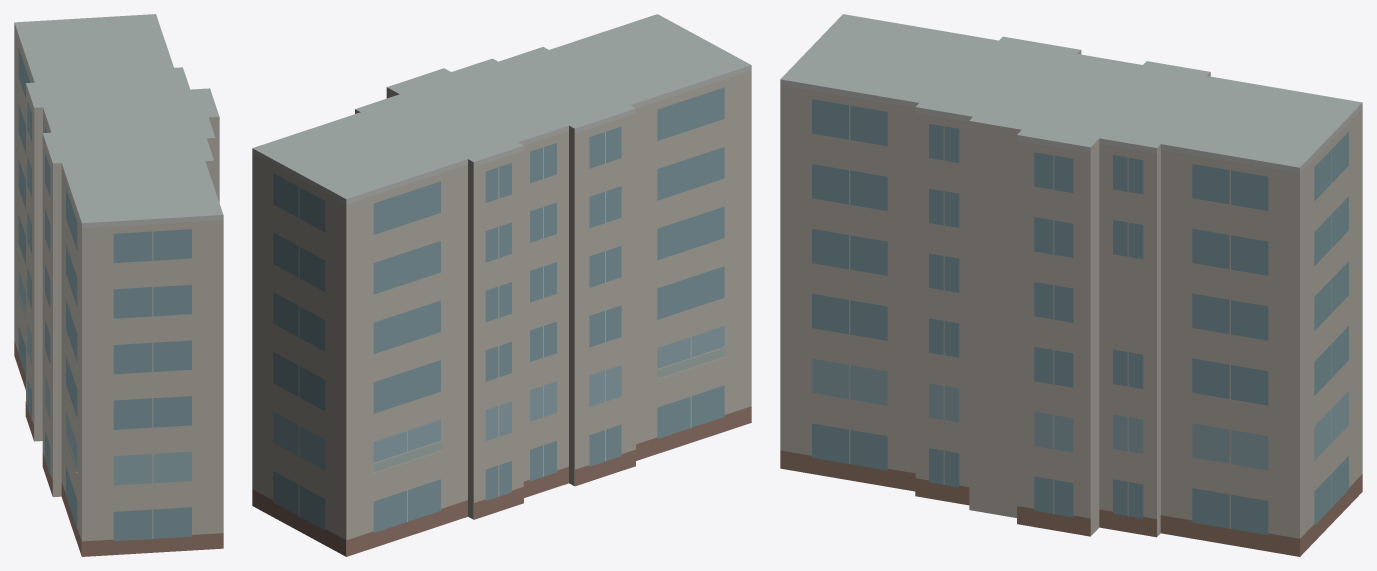
Rendered from survey-upis-32652664.glb.
3 views of the same model, side by side, from view 1: azimuth 30°, elevation 25°; view 2: azimuth 150°, elevation 25°; view 3: azimuth 270°, elevation 25° (orthographic). The views are drawn at different scales.
Parts seen in each view (by area): view 1: survey-upis-32652664.tmp; view 2: survey-upis-32652664.tmp; view 3: survey-upis-32652664.tmp.
Boxes of the visible parts, left/top/right/bottom form: survey-upis-32652664.tmp: left=14, top=14, right=223, bottom=556; survey-upis-32652664.tmp: left=252, top=14, right=751, bottom=556; survey-upis-32652664.tmp: left=780, top=14, right=1362, bottom=556.
Bounding box in the file's own units: 14.07 × 16.6 × 22.52.
